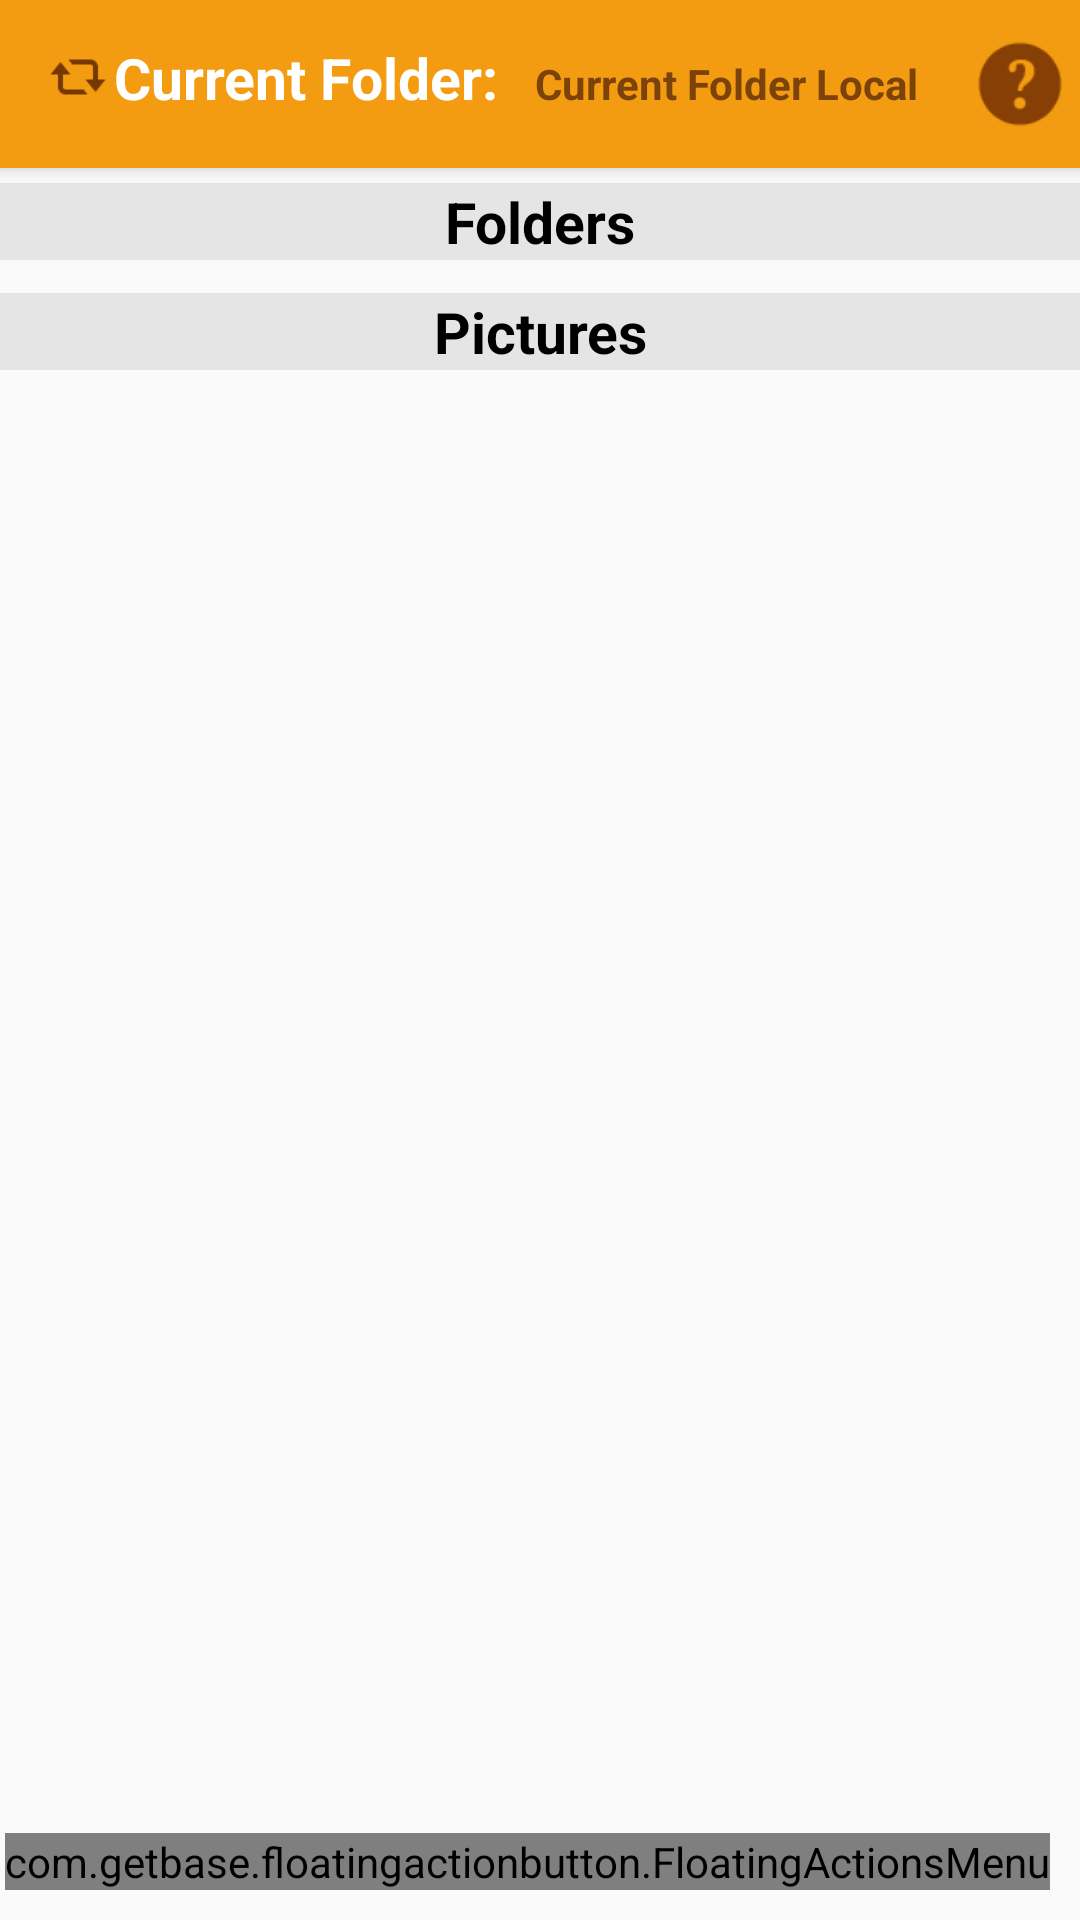

Screen size 1080px x 1920px. Icon name, then its box in pixels as (x1, y1, x2, y2):
help: (978, 42, 1062, 126)
refresh: (50, 59, 106, 95)
